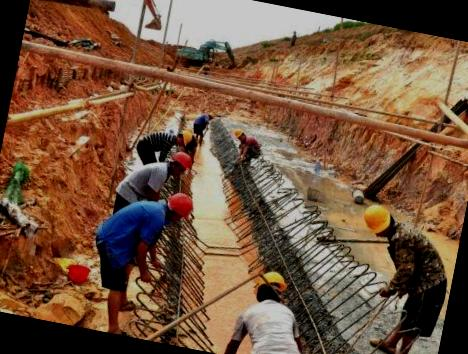helmet: (360, 202, 398, 241), (160, 190, 195, 225), (168, 150, 196, 176)
no_vest: (94, 194, 168, 277), (382, 220, 451, 309)
person: (334, 199, 457, 354), (86, 179, 198, 344)
